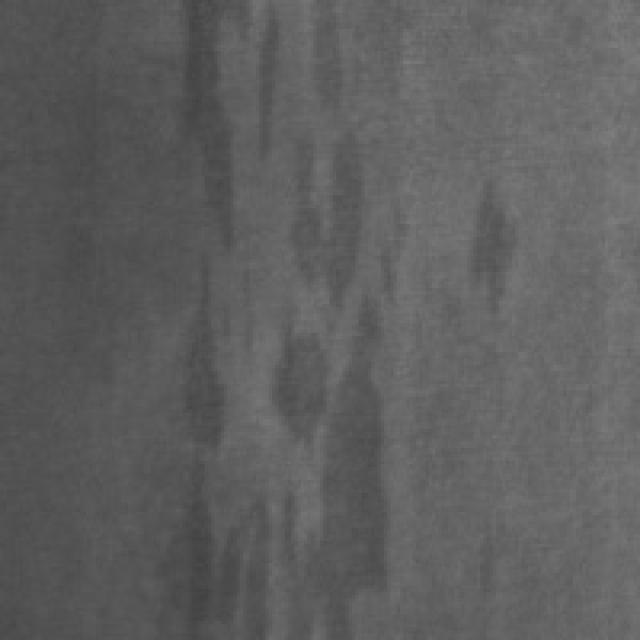inclusion: (173, 230, 400, 630), (164, 0, 278, 253), (285, 0, 368, 304), (458, 173, 515, 336)
